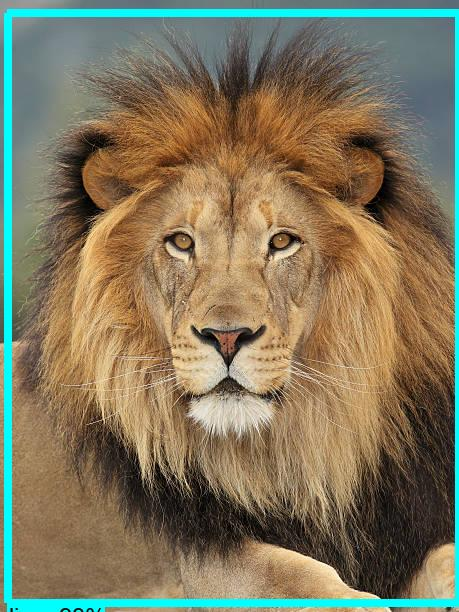lion: (19, 20, 458, 523)
